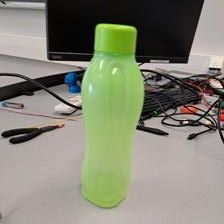bottle: (75, 19, 147, 210)
